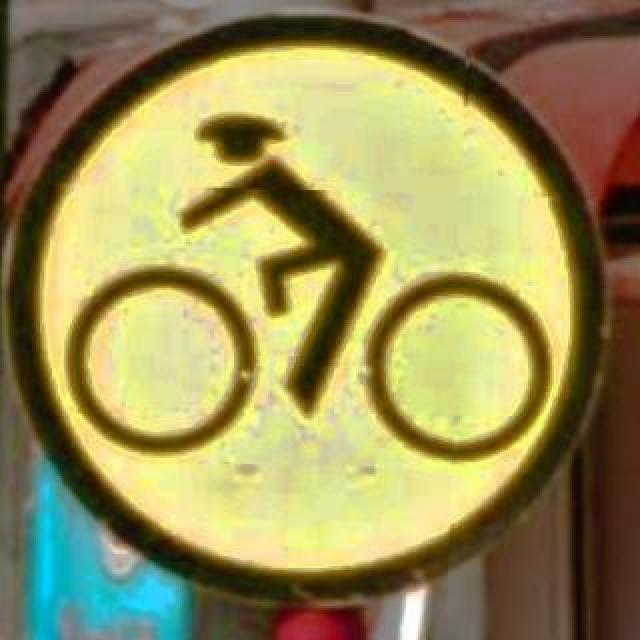bike lane: (4, 12, 614, 604)
